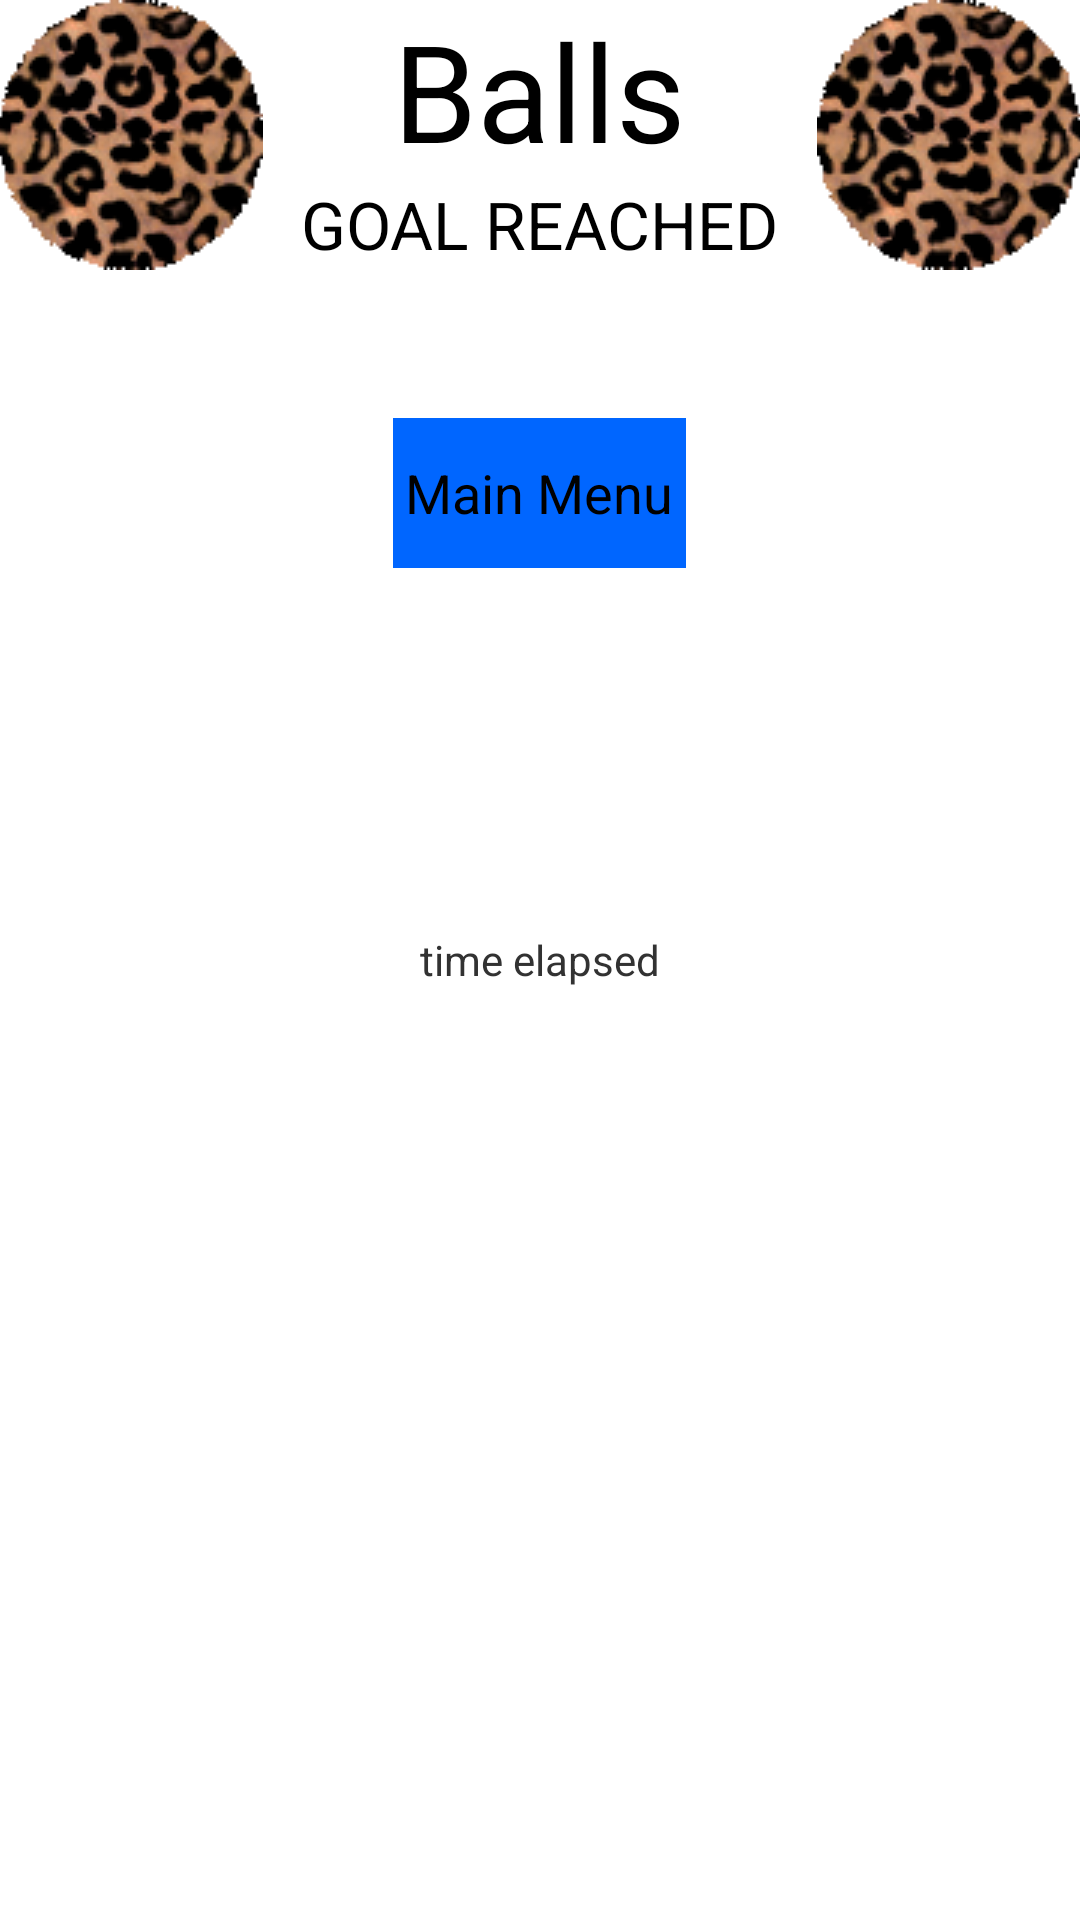

Icons on this 1080 × 1920 Android screen, each with the point to tap as [x,y]:
Leopard: [131,135], [948,135]
